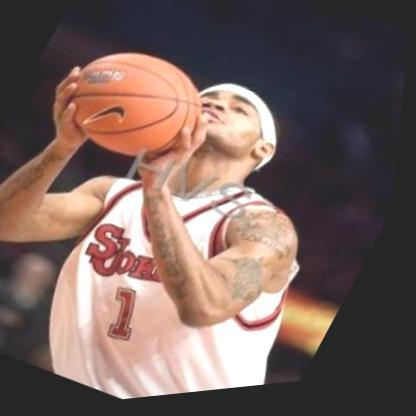basketball: (31, 19, 230, 202)
